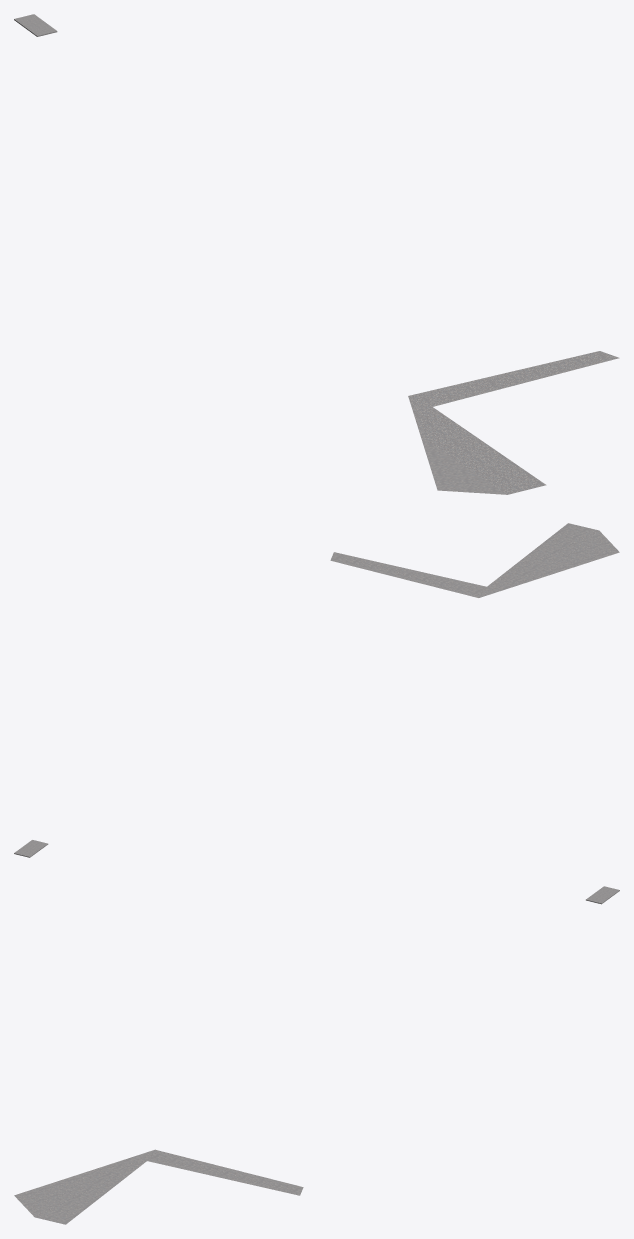
File: kd_stage_135fe0_5_51_bounded.glb
3 renders of one model, top to bottom at view 1: azimuth 30°, elevation 25°; view 2: azimuth 150°, elevation 25°; view 3: azimuth 330°, elevation 25°, orthographic. The views are drawn at different scales.
Visible parts, largest first — view 1: kd_stage_135fe0_5_51_bounded; view 2: kd_stage_135fe0_5_51_bounded; view 3: kd_stage_135fe0_5_51_bounded.
Part boxes in pixels (x1,y1,x2,y2): kd_stage_135fe0_5_51_bounded: [14, 14, 619, 494]; kd_stage_135fe0_5_51_bounded: [14, 523, 619, 857]; kd_stage_135fe0_5_51_bounded: [14, 886, 619, 1224].
Size of the model in its own units: 6.76 by 0.0702 by 26.1.
Materials: 1 (1 with a texture image).
